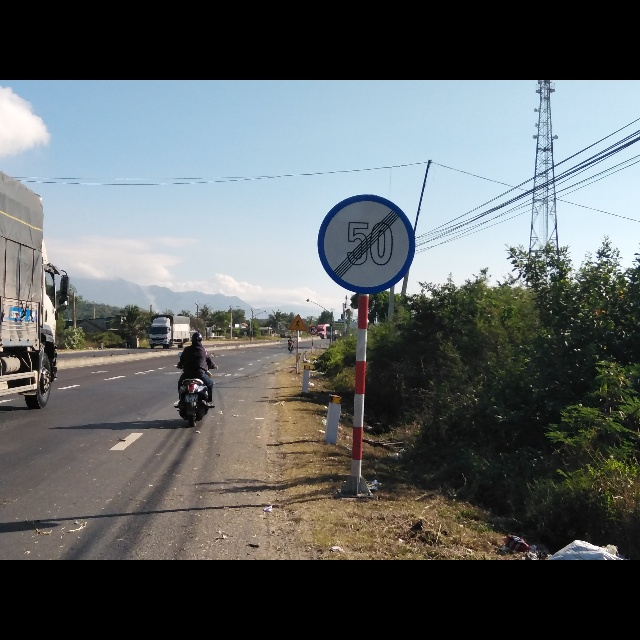Hết hạn chế tốc độ tối đa 50km/h: (312, 188, 416, 292)
